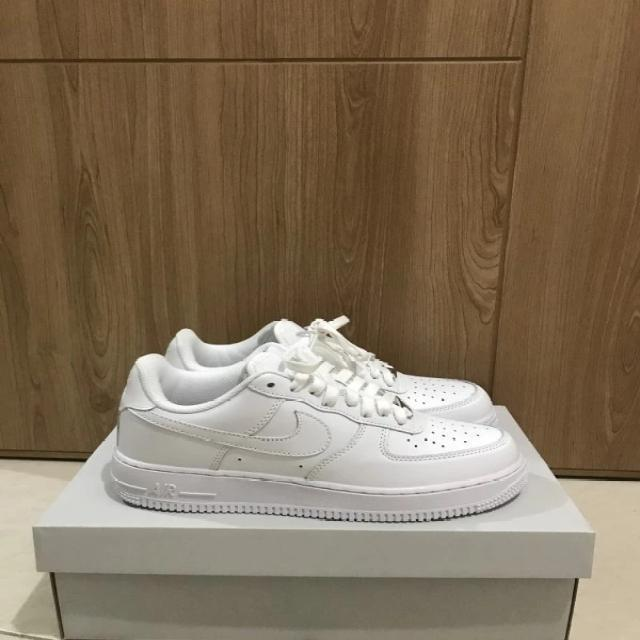nike original air force: (106, 344, 534, 524), (168, 316, 504, 426)
